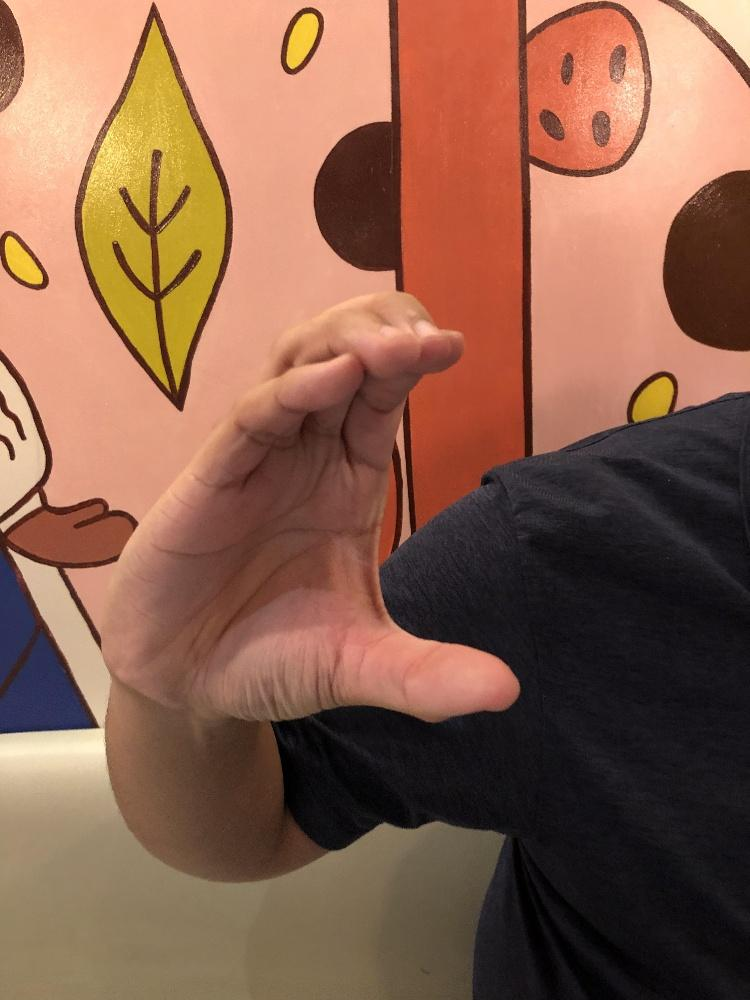c: (100, 285, 521, 725)
